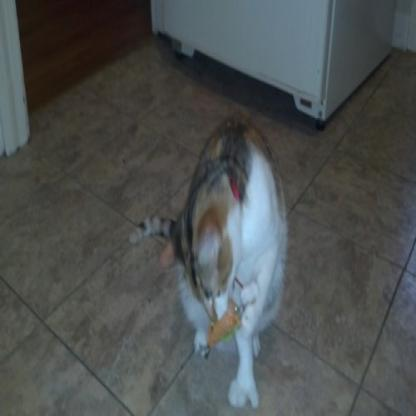Target: (134, 116, 289, 408)
